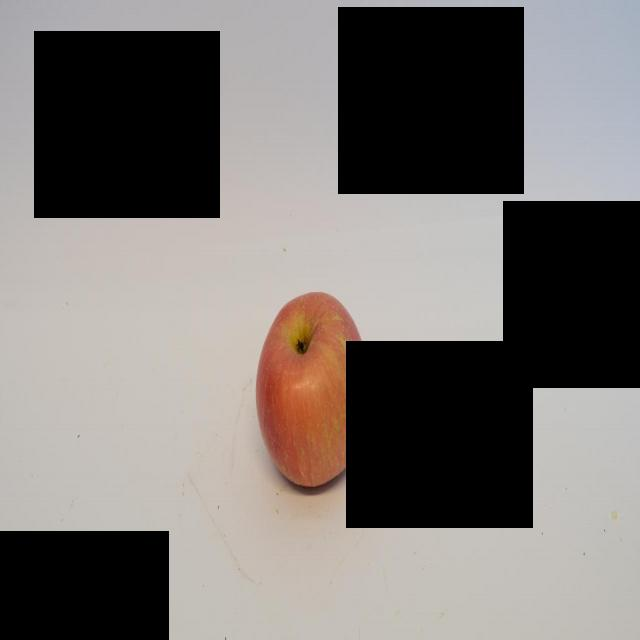apple: (243, 271, 387, 501)
